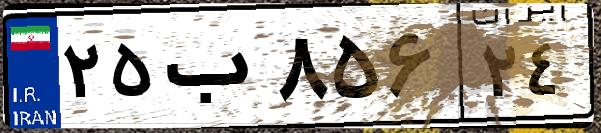2: (57, 26, 110, 100), (475, 38, 525, 113)
4: (525, 38, 570, 115)
5: (330, 28, 385, 110), (110, 28, 158, 98)
6: (385, 28, 445, 110)
8: (270, 28, 330, 110)
ب: (158, 20, 270, 120)
